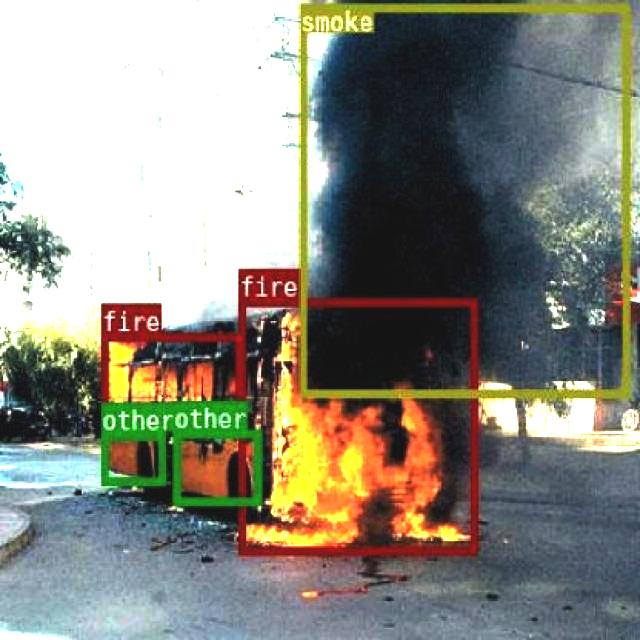fire: (238, 297, 476, 554), (99, 332, 241, 420)
smoke: (297, 2, 628, 396)
